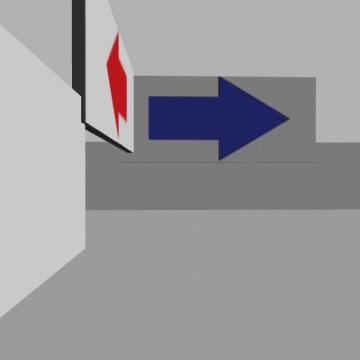blue_right: (148, 76, 289, 160)
red_left: (107, 32, 127, 138)
